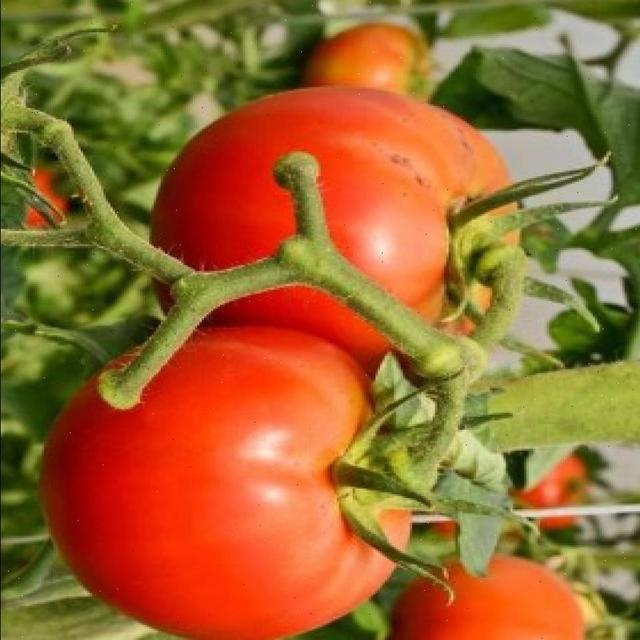Healthy Fruit: (135, 61, 333, 396)
